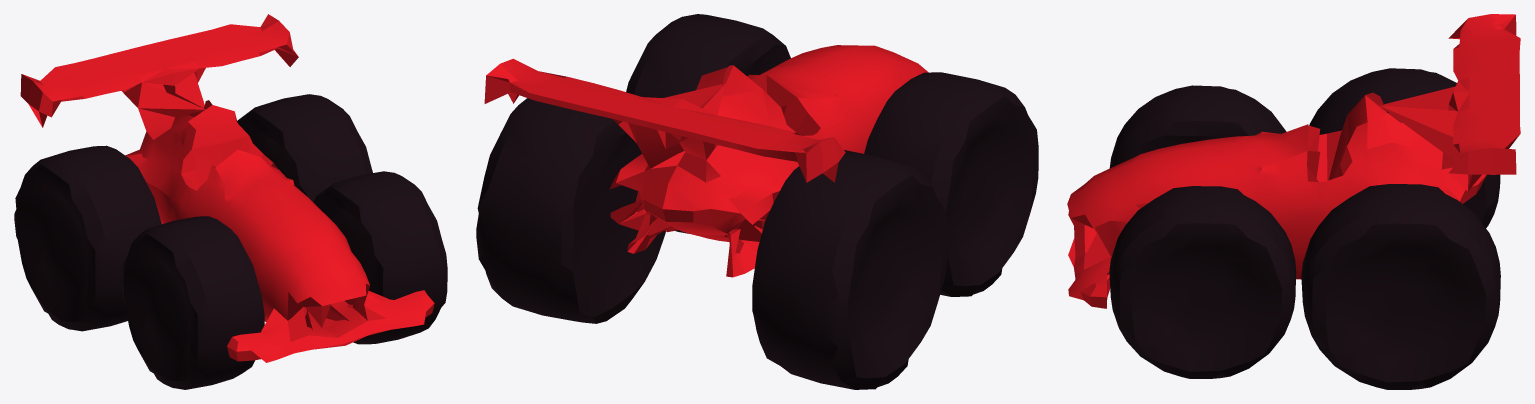
The model's file is toycar.fbx.
3 views of the same model, side by side, from view 1: azimuth 30°, elevation 25°; view 2: azimuth 150°, elevation 25°; view 3: azimuth 270°, elevation 25° (orthographic). The views are drawn at different scales.
Parts seen in each view (by area): view 1: Mesh_0.004, Mesh_0.003, Mesh_0.001, Mesh_0.005, Mesh_0.002; view 2: Mesh_0.004, Mesh_0.003, Mesh_0.002, Mesh_0.001, Mesh_0.005; view 3: Mesh_0.004, Mesh_0.002, Mesh_0.005, Mesh_0.001, Mesh_0.003.
Boxes of the visible parts, x1=… form: Mesh_0.004: x1=20, y1=14, x2=434, y2=362; Mesh_0.003: x1=14, y1=145, x2=161, y2=331; Mesh_0.001: x1=122, y1=216, x2=264, y2=389; Mesh_0.005: x1=313, y1=171, x2=447, y2=344; Mesh_0.002: x1=237, y1=94, x2=372, y2=202; Mesh_0.004: x1=484, y1=45, x2=928, y2=277; Mesh_0.003: x1=752, y1=150, x2=947, y2=389; Mesh_0.002: x1=476, y1=98, x2=665, y2=323; Mesh_0.001: x1=864, y1=72, x2=1038, y2=296; Mesh_0.005: x1=626, y1=14, x2=790, y2=233; Mesh_0.004: x1=1067, y1=14, x2=1520, y2=308; Mesh_0.002: x1=1301, y1=184, x2=1500, y2=389; Mesh_0.005: x1=1109, y1=186, x2=1296, y2=378; Mesh_0.001: x1=1109, y1=85, x2=1286, y2=168; Mesh_0.003: x1=1309, y1=68, x2=1500, y2=227.
Size of the model in its own units: 146 by 105 by 180.
